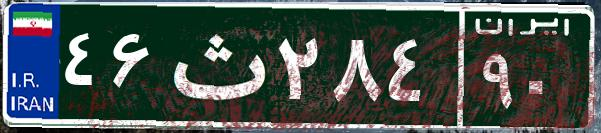0: (525, 38, 570, 115)
2: (273, 28, 330, 110)
4: (385, 28, 445, 110), (57, 26, 110, 107)
6: (110, 28, 158, 105)
8: (330, 28, 385, 110)
9: (475, 38, 525, 113)
ث: (158, 15, 273, 115)
